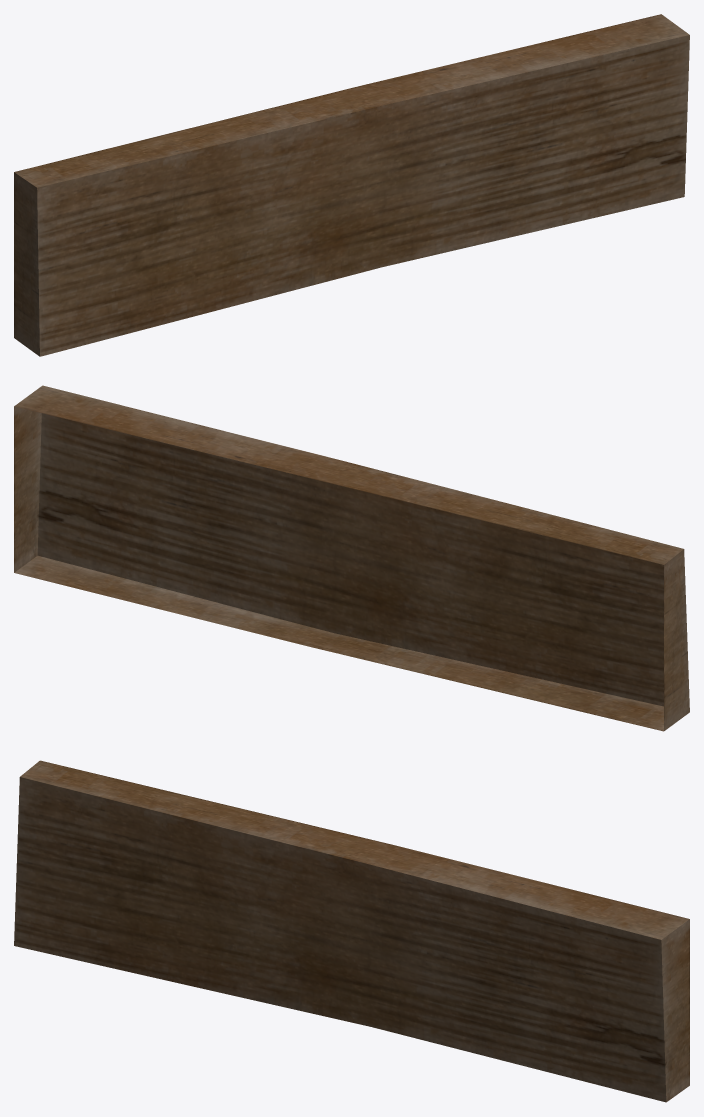
3 views of the same model, one above another, from view 1: azimuth 30°, elevation 25°; view 2: azimuth 150°, elevation 25°; view 3: azimuth 330°, elevation 25° (orthographic).
Parts seen in each view (by area): view 1: LP.001; view 2: LP.001; view 3: LP.001.
Boxes of the visible parts, x1=… form: LP.001: x1=14, y1=14, x2=689, y2=356; LP.001: x1=14, y1=385, x2=689, y2=731; LP.001: x1=14, y1=760, x2=689, y2=1102.
Bounding box in the file's own units: 3015 × 748 × 236.
1 material, 1 textured.
